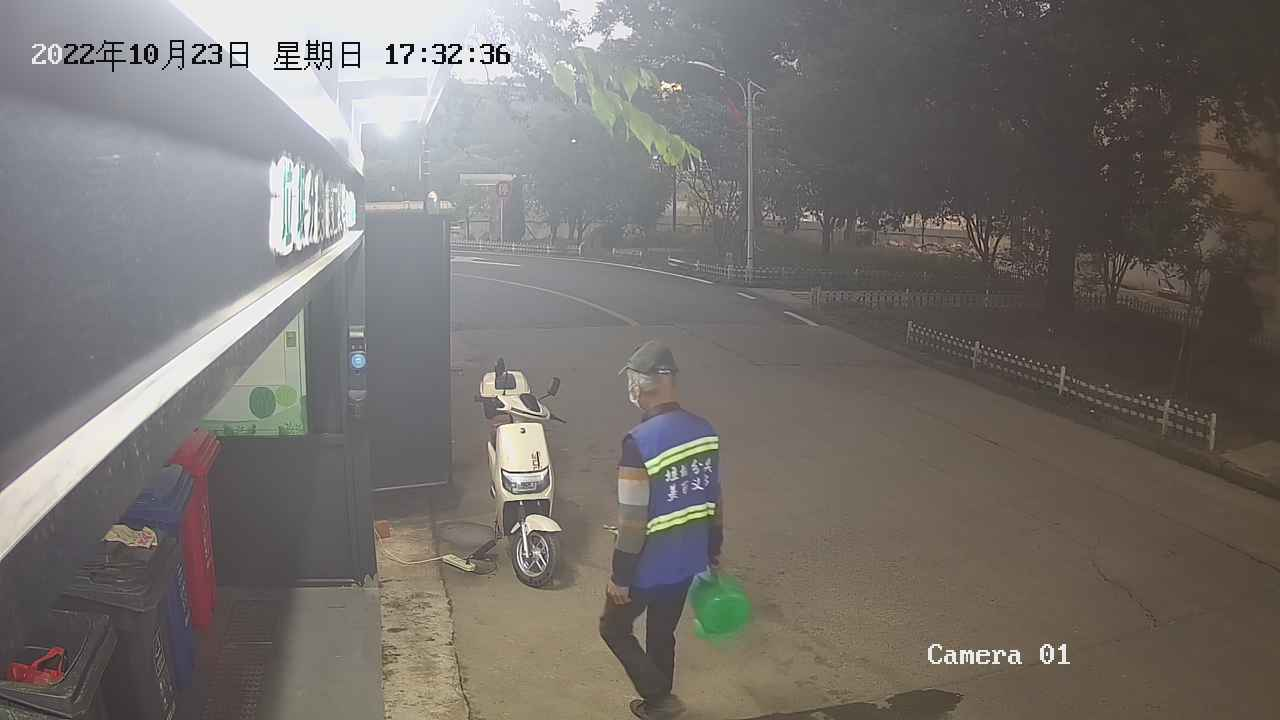worker: (596, 338, 725, 720)
